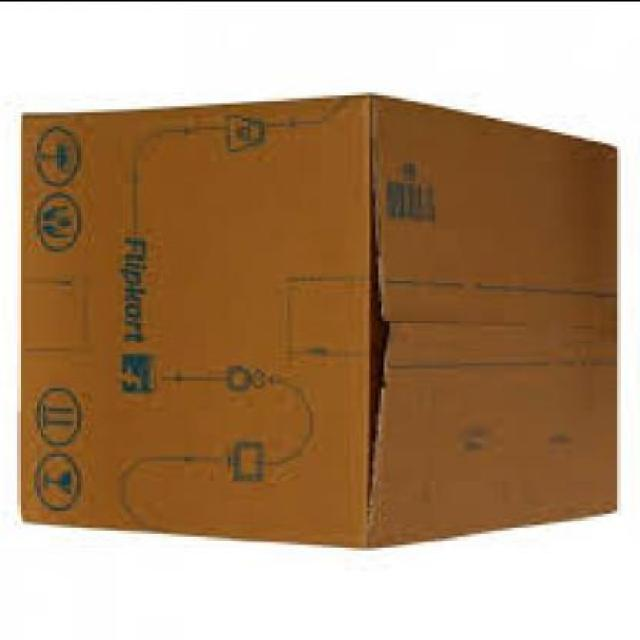CARDBOARD: (23, 88, 620, 543)
